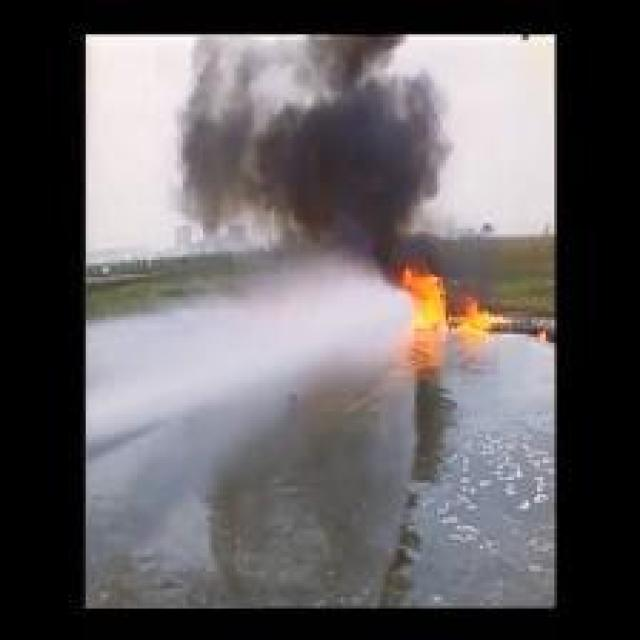fire: (392, 256, 480, 340)
smoke: (179, 37, 435, 241)
